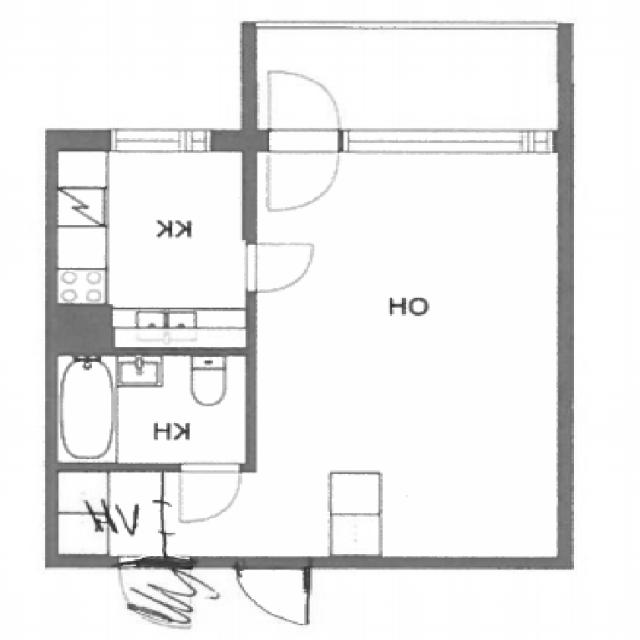door: (258, 139, 338, 217), (263, 67, 344, 142), (240, 235, 316, 300), (167, 464, 245, 525)
window: (349, 127, 544, 165), (102, 121, 226, 159)
zone: (249, 138, 569, 557), (49, 138, 258, 339), (48, 348, 254, 469), (124, 561, 308, 640), (52, 466, 164, 562), (327, 472, 382, 518)
